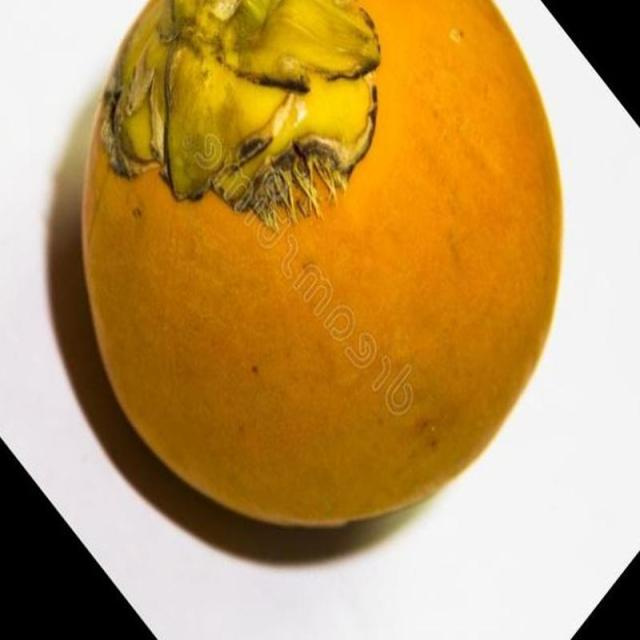good: (82, 0, 562, 525)
